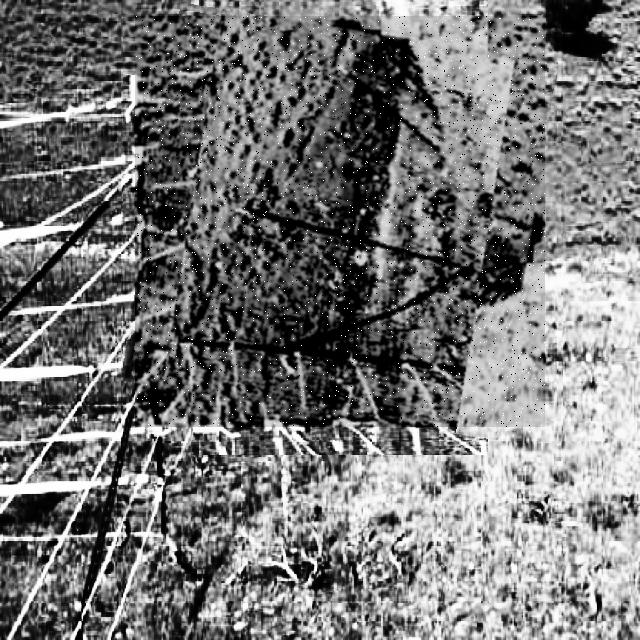anomaly-fence: (135, 16, 545, 427)
